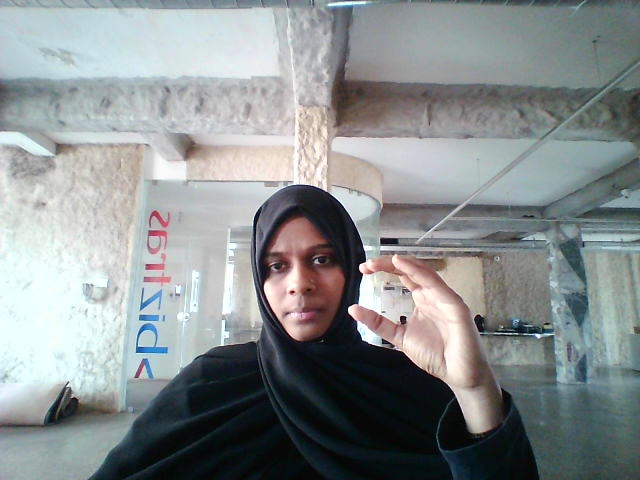NO: (341, 242, 539, 400)
